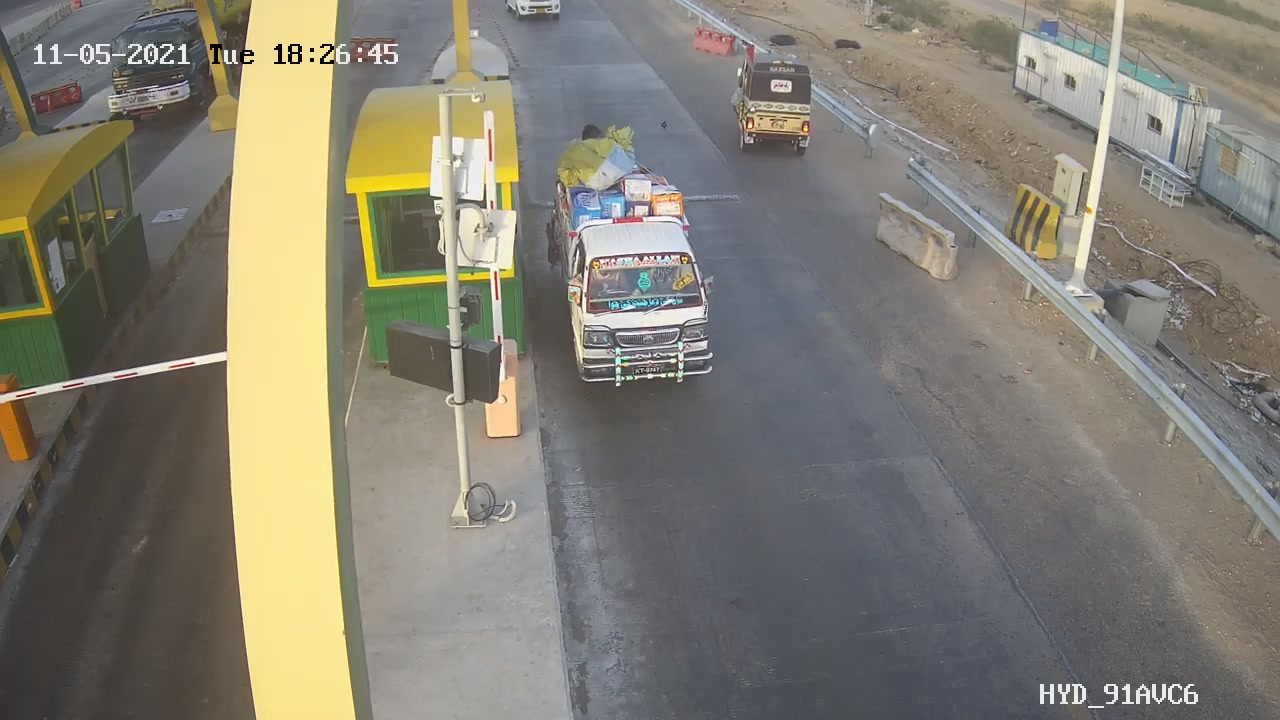F1: (556, 149, 720, 405)
